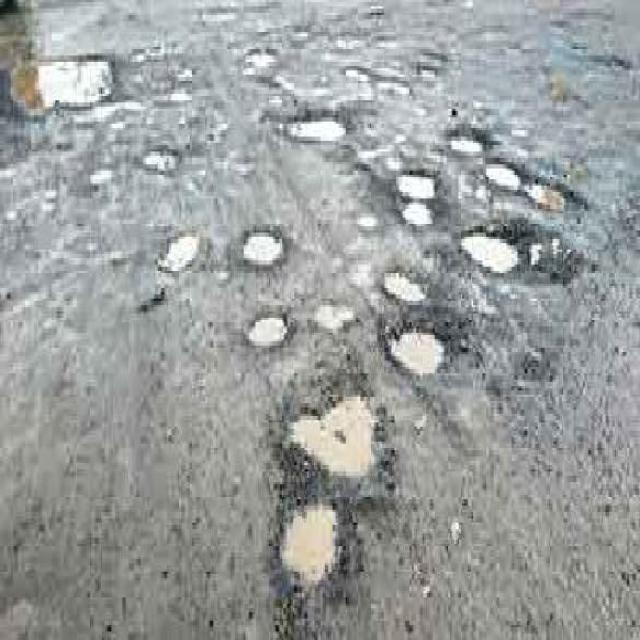Pothole: (283, 385, 383, 477), (12, 50, 116, 112), (277, 496, 345, 586), (387, 319, 455, 379), (461, 221, 523, 272), (281, 108, 352, 145), (525, 174, 588, 214), (382, 263, 432, 306), (163, 227, 203, 274), (243, 225, 287, 266), (246, 313, 291, 347), (314, 298, 358, 332), (448, 121, 490, 155), (396, 170, 440, 198), (487, 155, 523, 189), (143, 144, 181, 172), (403, 200, 438, 228)
